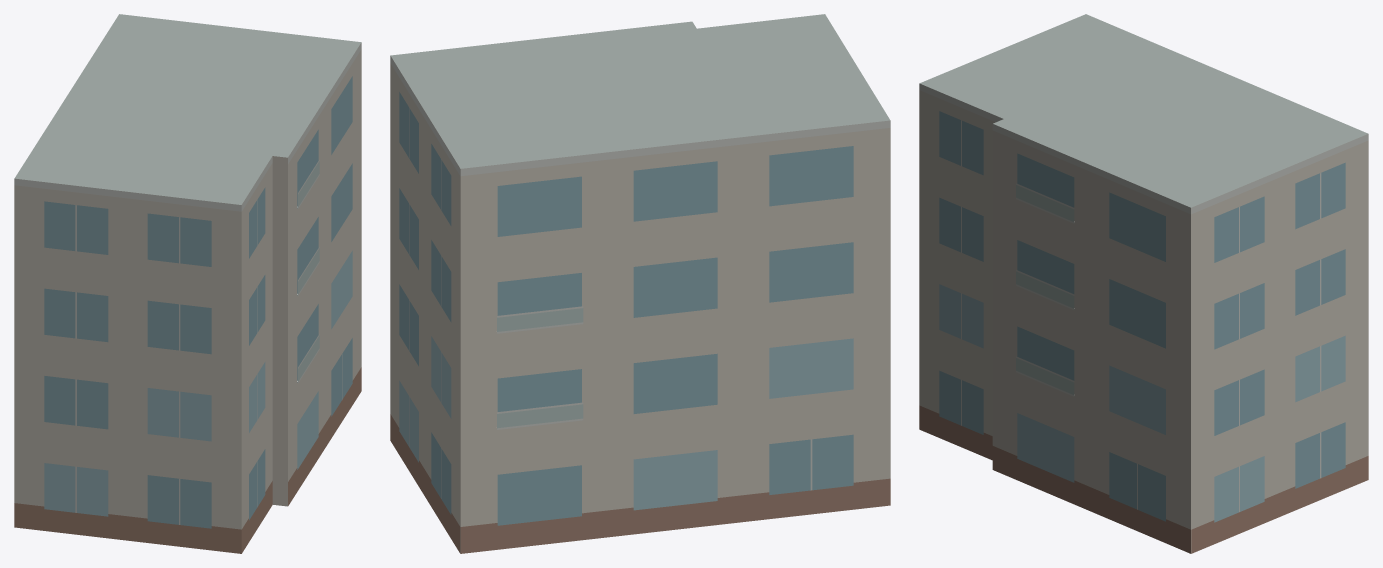
File: survey-upis-32658135.glb
3 views of the same model, side by side, from view 1: azimuth 30°, elevation 25°; view 2: azimuth 150°, elevation 25°; view 3: azimuth 270°, elevation 25° (orthographic). The views are drawn at different scales.
Visible parts, largest first — view 1: survey-upis-32658135.tmp; view 2: survey-upis-32658135.tmp; view 3: survey-upis-32658135.tmp.
Part boxes in pixels (x1,y1,x2,y2): survey-upis-32658135.tmp: (14, 14, 361, 553); survey-upis-32658135.tmp: (390, 14, 890, 553); survey-upis-32658135.tmp: (919, 14, 1368, 553).
Bounding box in the file's own units: 15.26 × 12.7 × 14.95.
